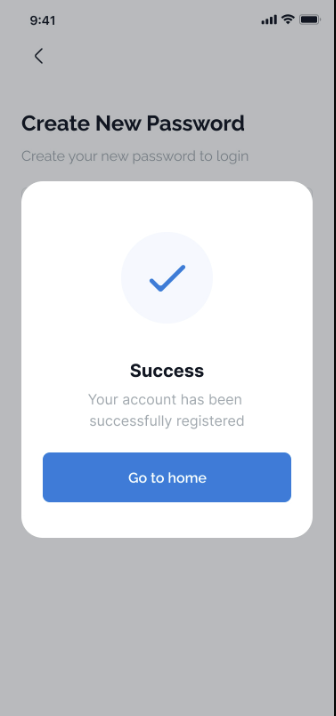Button: (41, 451, 293, 504)
